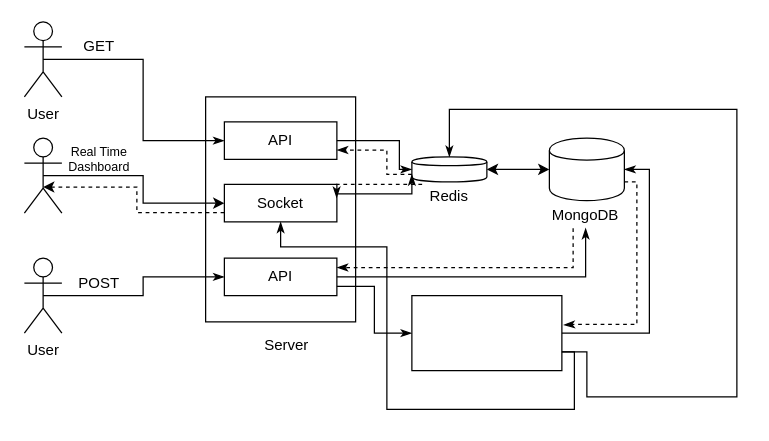
This 769x441 diagram has some shape labels left out. Each missing label, with the centre of its shape:
"Admin" goes at (42,175).
"Update Event" goes at (486,332).
